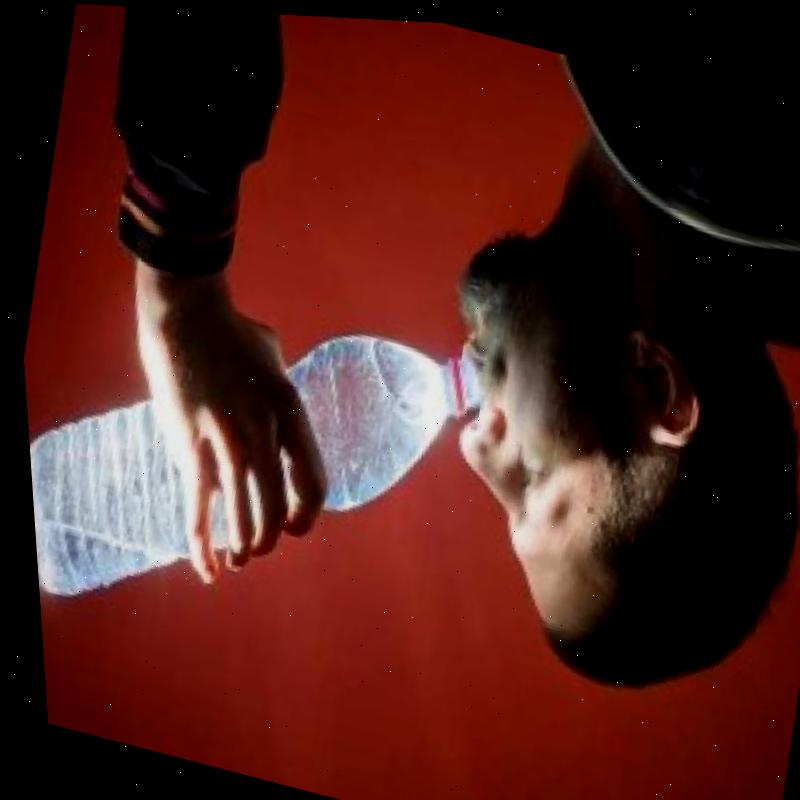botella: (13, 245, 502, 691)
